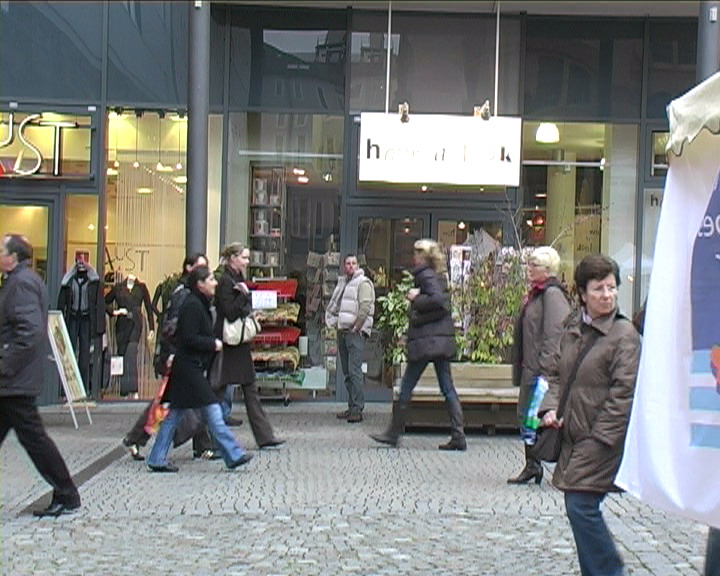deflection: (557, 255, 641, 384), (332, 252, 372, 321)
